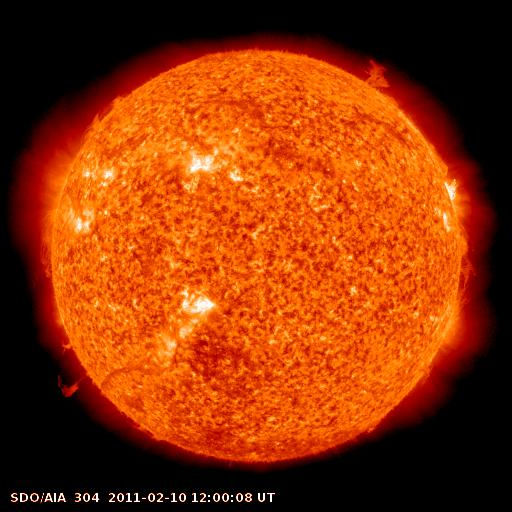prominence: (35, 338, 97, 400), (347, 43, 405, 106), (16, 226, 70, 286), (77, 88, 134, 141), (446, 244, 491, 308)
